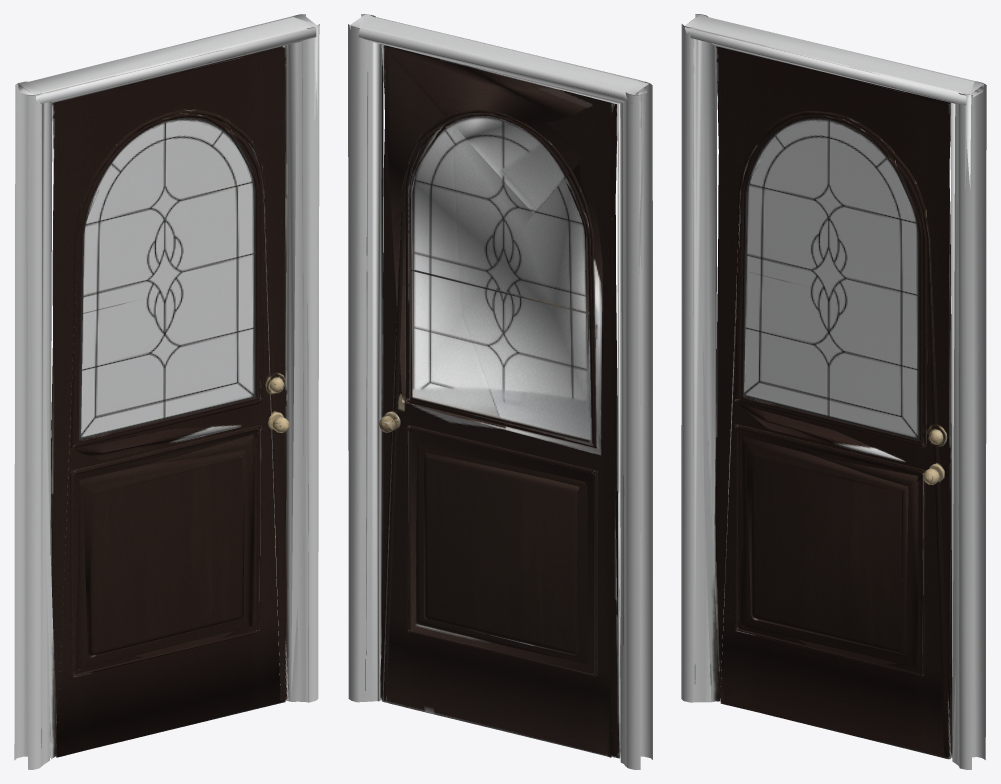
Rendered from Meshy_AI_a_suburban_house_door_0903105838_texture.glb.
The picture shows the model from 3 angles, left to right: view 1: azimuth 30°, elevation 25°; view 2: azimuth 150°, elevation 25°; view 3: azimuth 330°, elevation 25°; orthographic projection.
Parts seen in each view (by area): view 1: mesh_node; view 2: mesh_node; view 3: mesh_node.
Boxes of the visible parts, left/top/right/bottom form: mesh_node: left=14, top=14, right=319, bottom=769; mesh_node: left=348, top=14, right=652, bottom=769; mesh_node: left=681, top=14, right=986, bottom=769.
Size of the model in its own units: 0.4531 by 1 by 0.0652.
Materials: 1 (1 with a texture image).
